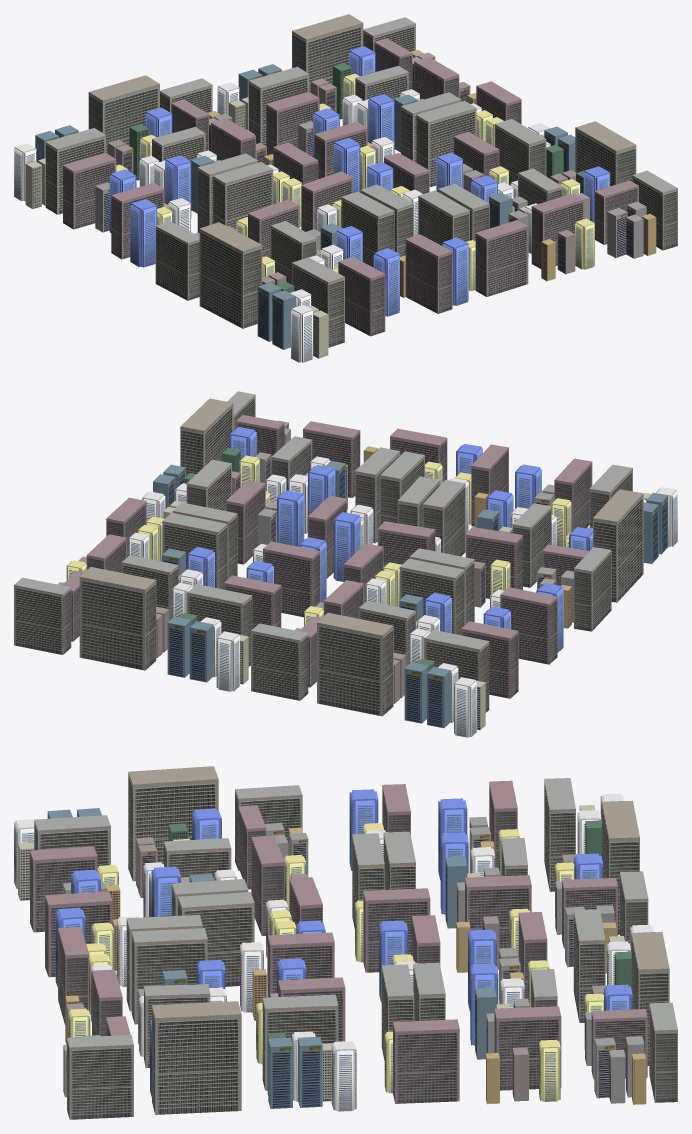
Rendered from bill.FBX.
The picture shows the model from 3 angles, top to bottom: view 1: azimuth 30°, elevation 25°; view 2: azimuth 150°, elevation 25°; view 3: azimuth 270°, elevation 25°; orthographic projection. The views are drawn at different scales.
Visible parts, largest first — view 1: bill_013, bill_012, bill_007, bill_005, bill_011, bill_002, bill_009, bill_008, bill_004, bill_003, bill_014, bill_016 (+4 smaller); view 2: bill_003, bill_008, bill_011, bill_007, bill_013, bill_002, bill_016, bill_005, bill_004, bill_012, bill_014, bill_009 (+4 smaller); view 3: bill_002, bill_016, bill_007, bill_011, bill_014, bill_013, bill_004, bill_009, bill_012, bill_005, bill_008, bill_003 (+4 smaller).
Part boxes in pixels (x1,y1,x2,y2): bill_013: (384, 131, 656, 296); bill_012: (199, 222, 468, 349); bill_007: (63, 99, 318, 259); bill_005: (14, 110, 273, 232); bill_011: (199, 171, 452, 336); bill_002: (266, 38, 521, 189); bill_009: (290, 184, 413, 362); bill_008: (35, 75, 214, 267); bill_004: (217, 49, 476, 187); bill_003: (238, 14, 417, 192); bill_014: (402, 119, 646, 257); bill_016: (366, 121, 636, 228); bill_003: (79, 537, 326, 682); bill_008: (317, 583, 563, 728); bill_011: (377, 444, 592, 628); bill_007: (299, 543, 557, 703); bill_013: (226, 415, 447, 578); bill_002: (62, 497, 320, 657); bill_016: (153, 398, 360, 581); bill_005: (295, 548, 503, 737); bill_004: (57, 502, 266, 691); bill_012: (456, 444, 668, 602); bill_014: (142, 428, 424, 545); bill_009: (397, 464, 677, 622); bill_002: (384, 912, 647, 1104); bill_016: (150, 920, 325, 1114); bill_007: (355, 780, 617, 973); bill_011: (30, 805, 322, 977); bill_014: (83, 914, 356, 1111); bill_013: (58, 927, 345, 1064); bill_004: (381, 909, 654, 1098); bill_009: (14, 815, 288, 987); bill_012: (47, 766, 221, 986); bill_005: (352, 778, 624, 967); bill_008: (349, 789, 639, 934); bill_003: (379, 920, 669, 1065).
Size of what is drawn, in the model's own units: 2380 by 425 by 2469.
